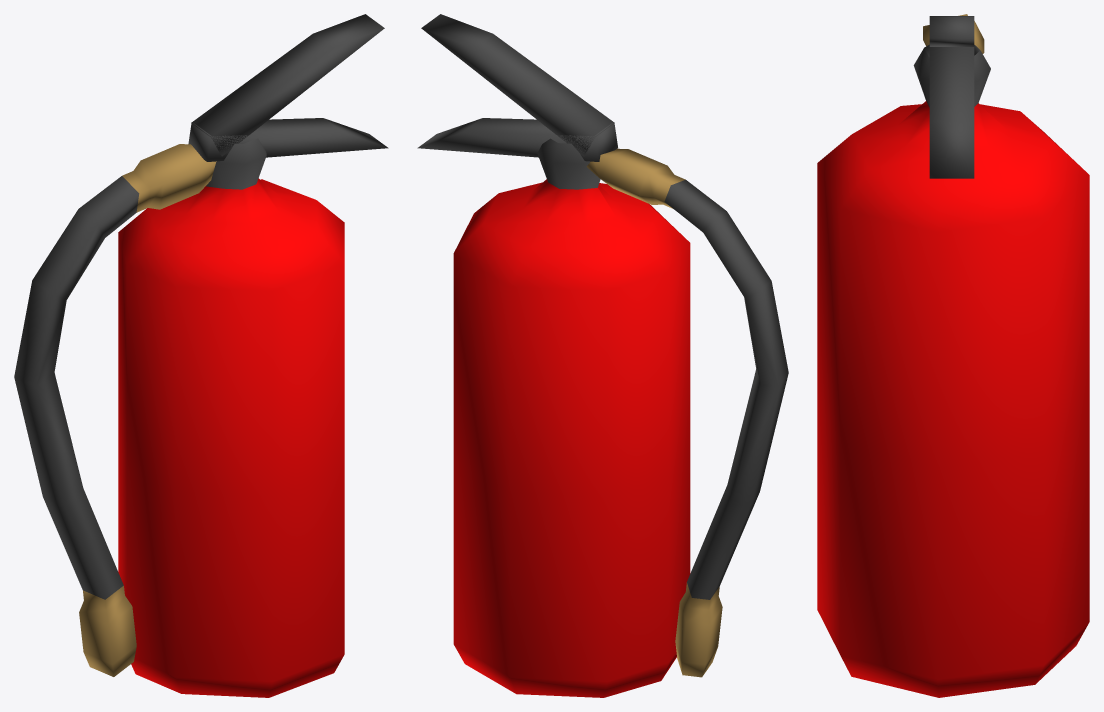
Rendered from extinguisher.fbx.
3 views of the same model, side by side, from view 1: azimuth 30°, elevation 25°; view 2: azimuth 150°, elevation 25°; view 3: azimuth 270°, elevation 25° (orthographic). The views are drawn at different scales.
Visible parts, largest first — view 1: extinguisher; view 2: extinguisher; view 3: extinguisher.
Part boxes in pixels (x1=…): extinguisher: x1=14, y1=14, x2=388, y2=697; extinguisher: x1=417, y1=14, x2=788, y2=697; extinguisher: x1=817, y1=14, x2=1089, y2=697.
Size of the model in its own units: 43.51 by 69.52 by 25.
